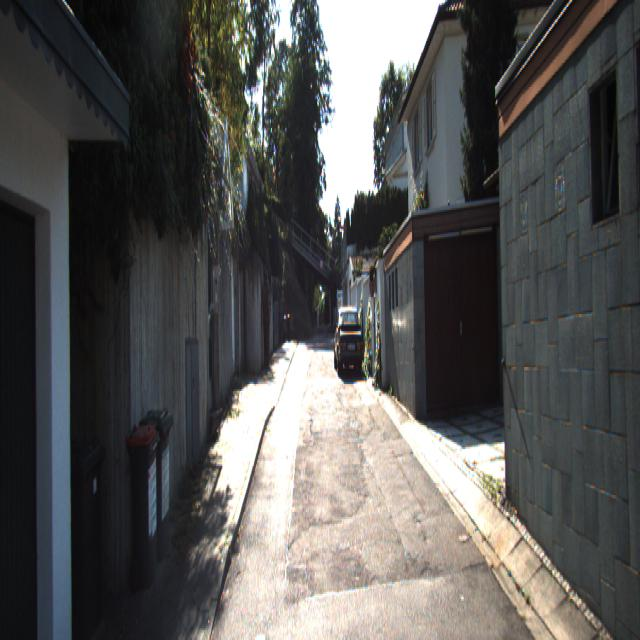Car: (334, 305, 364, 379)
